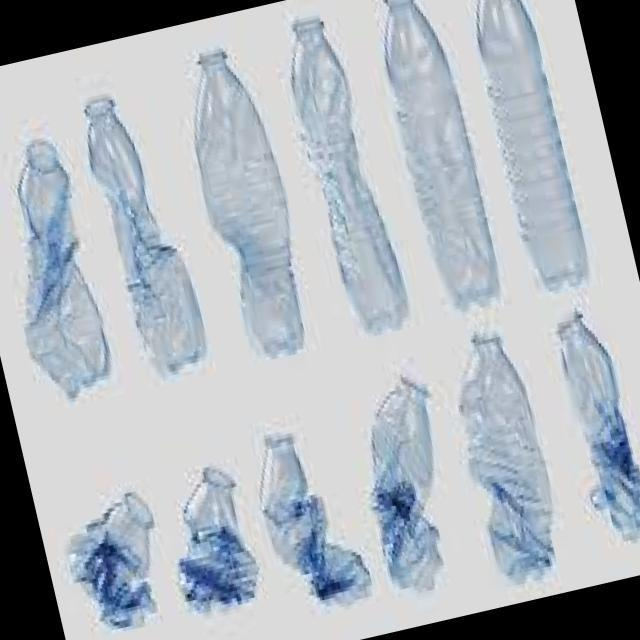defected: (158, 34, 328, 370), (261, 0, 416, 347), (351, 0, 512, 318), (70, 76, 217, 393), (428, 316, 580, 596), (0, 122, 131, 409), (333, 352, 482, 604), (237, 400, 379, 639), (531, 290, 640, 559), (153, 445, 278, 640), (54, 489, 183, 640)
good: (448, 0, 606, 312)
